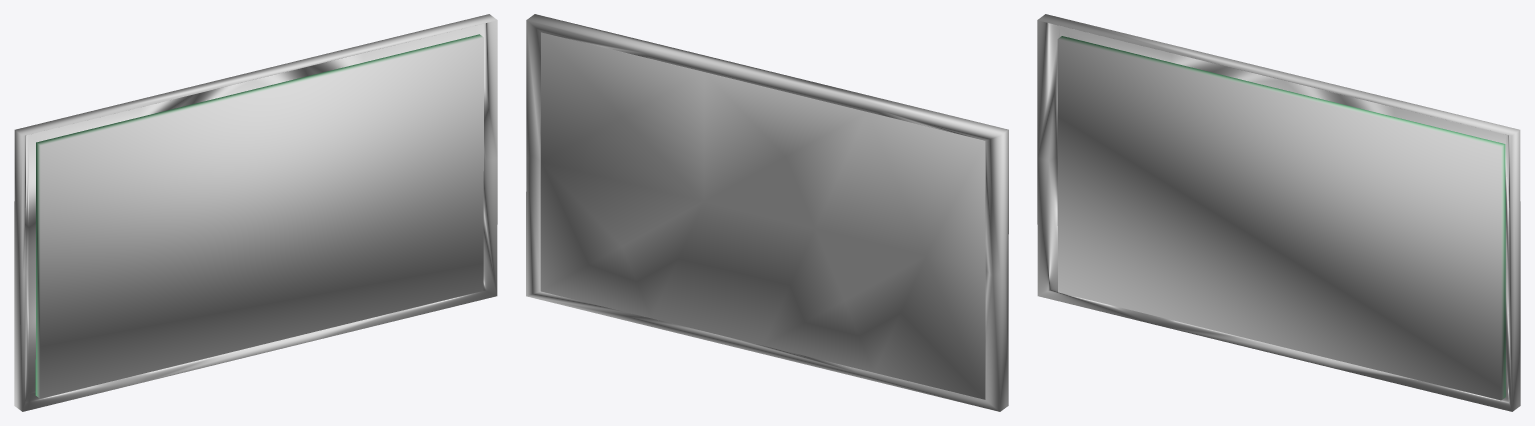
The model's file is poster2.fbx.
The picture shows the model from 3 angles, left to right: view 1: azimuth 30°, elevation 25°; view 2: azimuth 150°, elevation 25°; view 3: azimuth 330°, elevation 25°; orthographic projection.
Visible parts, largest first — view 1: Object_7; view 2: Object_7; view 3: Object_7.
Boxes of the visible parts, x1=… form: Object_7: x1=14, y1=14, x2=497, y2=411; Object_7: x1=526, y1=14, x2=1008, y2=411; Object_7: x1=1037, y1=14, x2=1520, y2=411.
Bounding box in the file's own units: 242 × 135 × 7.92.
